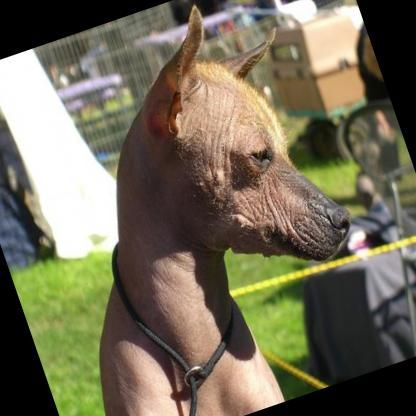Mexican_hairless: (0, 0, 397, 416)
